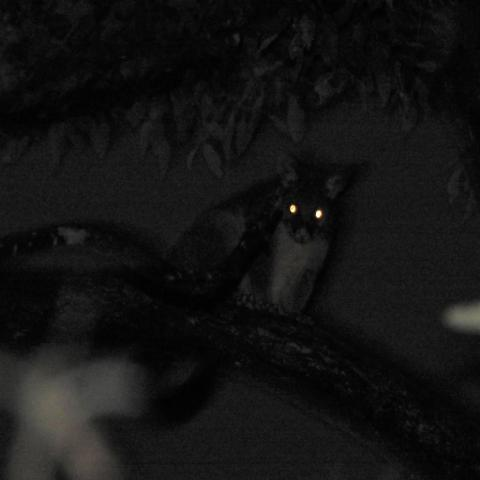small_animal: (156, 152, 362, 330)
